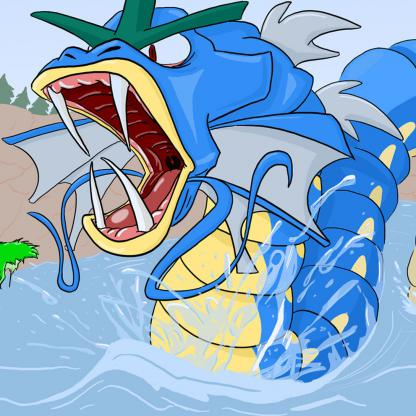Gyarados: (14, 5, 407, 416)
